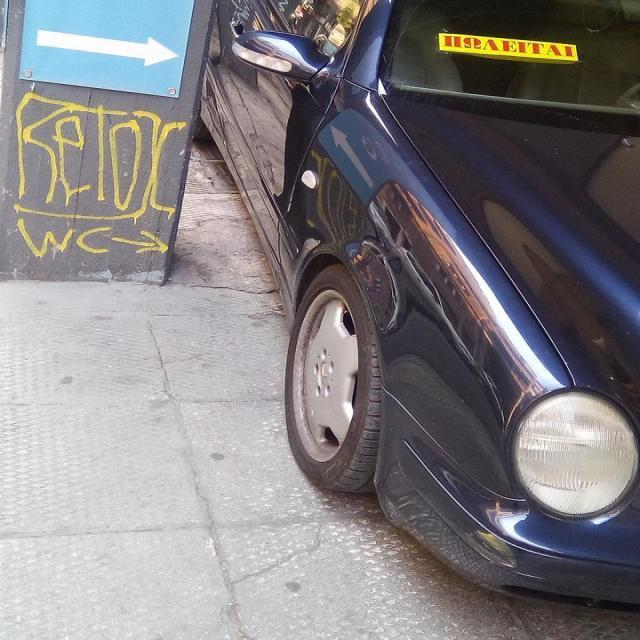nonspitting: (11, 93, 186, 261)
